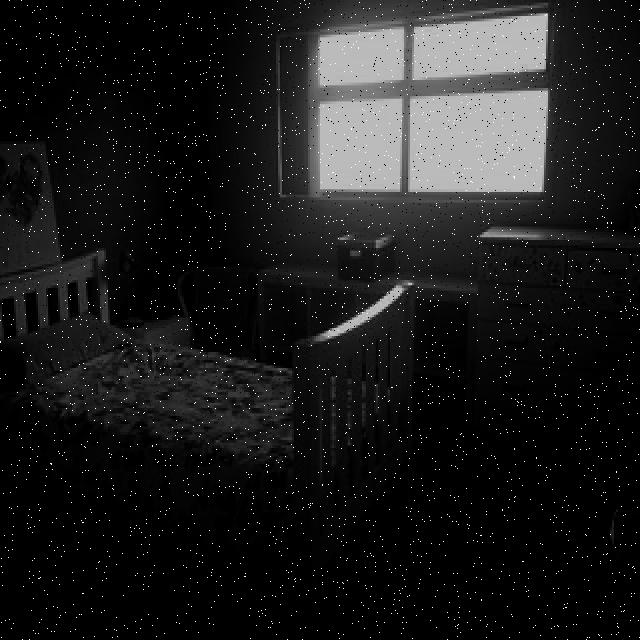bed: (11, 278, 417, 568)
